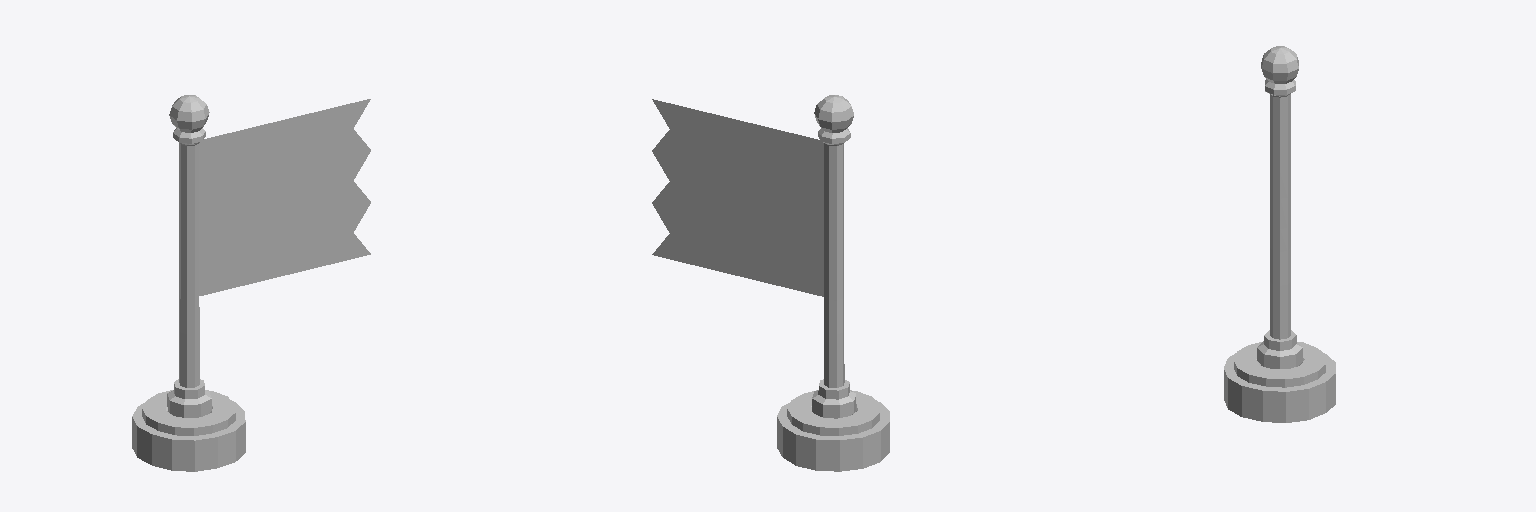
Rendered from flag.obj.
The picture shows the model from 3 angles: view 1: azimuth 30°, elevation 25°; view 2: azimuth 150°, elevation 25°; view 3: azimuth 270°, elevation 25°; orthographic projection.
Visible parts, largest first — view 1: CheckpointFlag__FlagMT, CheckpointFlag__BodyMT; view 2: CheckpointFlag__FlagMT, CheckpointFlag__BodyMT; view 3: CheckpointFlag__BodyMT.
Part boxes in pixels (x1,y1,x2,y2): CheckpointFlag__FlagMT: (199, 99, 370, 295); CheckpointFlag__BodyMT: (132, 95, 245, 471); CheckpointFlag__FlagMT: (652, 99, 823, 296); CheckpointFlag__BodyMT: (777, 95, 889, 471); CheckpointFlag__BodyMT: (1224, 46, 1335, 422).
Size of the model in its own units: 155 by 225 by 65.35.